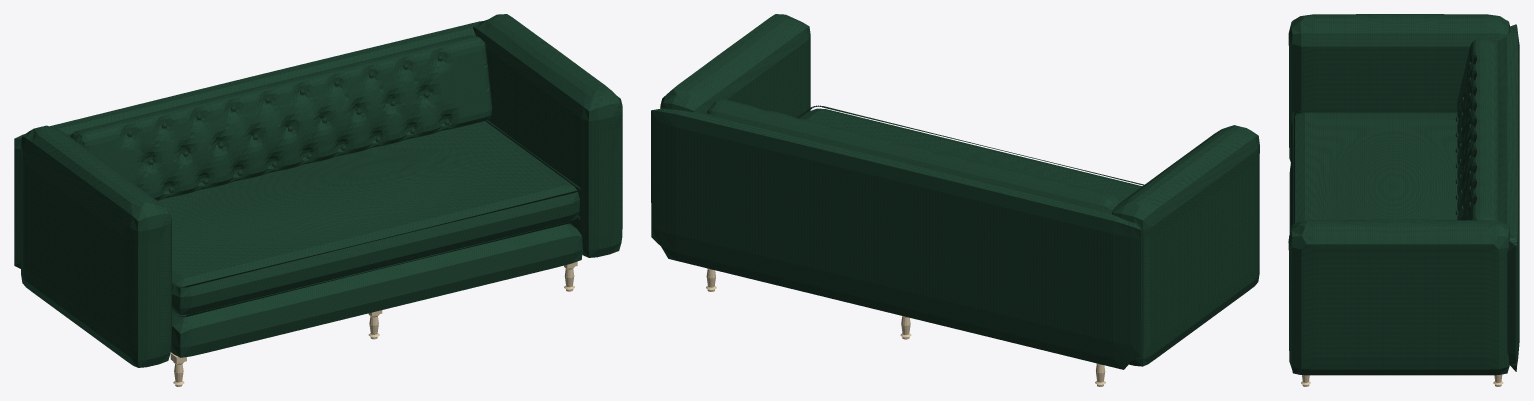
The model's file is BIB-SOF-3-seat.glb.
3 views of the same model, side by side, from view 1: azimuth 30°, elevation 25°; view 2: azimuth 150°, elevation 25°; view 3: azimuth 270°, elevation 25° (orthographic). The views are drawn at different scales.
Parts seen in each view (by area): view 1: seat:fabric:eyJwcmVzZXQiOiJ0YXJ0YW4iLCJ3YXJwIjoiZm9yZXN0Iiwi, inside-back:fabric:eyJwcmVzZXQiOiJ0YXJ0YW4iLCJ3YXJwIjoiZm9yZ, arm-pad-l:fabric:eyJwcmVzZXQiOiJ0YXJ0YW4iLCJ3YXJwIjoiZm9yZXN, arm-pad-r:fabric:eyJwcmVzZXQiOiJ0YXJ0YW4iLCJ3YXJwIjoiZm9yZXN, deck:fabric:eyJwcmVzZXQiOiJ0YXJ0YW4iLCJ3YXJwIjoiZm9yZXN0Iiwi, back-pad:fabric:eyJwcmVzZXQiOiJ0YXJ0YW4iLCJ3YXJwIjoiZm9yZXN0, seat:piping:pbr, inside-back:buttons:pbr; view 2: back-pad:fabric:eyJwcmVzZXQiOiJ0YXJ0YW4iLCJ3YXJwIjoiZm9yZXN0, arm-pad-l:fabric:eyJwcmVzZXQiOiJ0YXJ0YW4iLCJ3YXJwIjoiZm9yZXN, arm-pad-r:fabric:eyJwcmVzZXQiOiJ0YXJ0YW4iLCJ3YXJwIjoiZm9yZXN, inside-back:fabric:eyJwcmVzZXQiOiJ0YXJ0YW4iLCJ3YXJwIjoiZm9yZ, seat:fabric:eyJwcmVzZXQiOiJ0YXJ0YW4iLCJ3YXJwIjoiZm9yZXN0Iiwi, seat:piping:pbr; view 3: arm-pad-r:fabric:eyJwcmVzZXQiOiJ0YXJ0YW4iLCJ3YXJwIjoiZm9yZXN, arm-pad-l:fabric:eyJwcmVzZXQiOiJ0YXJ0YW4iLCJ3YXJwIjoiZm9yZXN, seat:fabric:eyJwcmVzZXQiOiJ0YXJ0YW4iLCJ3YXJwIjoiZm9yZXN0Iiwi, inside-back:fabric:eyJwcmVzZXQiOiJ0YXJ0YW4iLCJ3YXJwIjoiZm9yZ, back-pad:fabric:eyJwcmVzZXQiOiJ0YXJ0YW4iLCJ3YXJwIjoiZm9yZXN0, seat:piping:pbr, inside-back:buttons:pbr.
Part boxes in pixels (x1,y1,x2,y2): seat:fabric:eyJwcmVzZXQiOiJ0YXJ0YW4iLCJ3YXJwIjoiZm9yZXN0Iiwi: (158,121,579,314); inside-back:fabric:eyJwcmVzZXQiOiJ0YXJ0YW4iLCJ3YXJwIjoiZm9yZ: (71,35,492,200); arm-pad-l:fabric:eyJwcmVzZXQiOiJ0YXJ0YW4iLCJ3YXJwIjoiZm9yZXN: (20,125,171,367); arm-pad-r:fabric:eyJwcmVzZXQiOiJ0YXJ0YW4iLCJ3YXJwIjoiZm9yZXN: (473,14,622,257); deck:fabric:eyJwcmVzZXQiOiJ0YXJ0YW4iLCJ3YXJwIjoiZm9yZXN0Iiwi: (171,222,582,357); back-pad:fabric:eyJwcmVzZXQiOiJ0YXJ0YW4iLCJ3YXJwIjoiZm9yZXN0: (14,21,482,268); seat:piping:pbr: (172,120,580,317); inside-back:buttons:pbr: (127,55,449,192); back-pad:fabric:eyJwcmVzZXQiOiJ0YXJ0YW4iLCJ3YXJwIjoiZm9yZXN0: (651,108,1141,369); arm-pad-l:fabric:eyJwcmVzZXQiOiJ0YXJ0YW4iLCJ3YXJwIjoiZm9yZXN: (1112,125,1259,366); arm-pad-r:fabric:eyJwcmVzZXQiOiJ0YXJ0YW4iLCJ3YXJwIjoiZm9yZXN: (660,14,810,118); inside-back:fabric:eyJwcmVzZXQiOiJ0YXJ0YW4iLCJ3YXJwIjoiZm9yZ: (707,99,1120,211); seat:fabric:eyJwcmVzZXQiOiJ0YXJ0YW4iLCJ3YXJwIjoiZm9yZXN0Iiwi: (800,108,1142,202); seat:piping:pbr: (797,105,1144,185); arm-pad-r:fabric:eyJwcmVzZXQiOiJ0YXJ0YW4iLCJ3YXJwIjoiZm9yZXN: (1288,219,1510,375); arm-pad-l:fabric:eyJwcmVzZXQiOiJ0YXJ0YW4iLCJ3YXJwIjoiZm9yZXN: (1288,14,1510,162); seat:fabric:eyJwcmVzZXQiOiJ0YXJ0YW4iLCJ3YXJwIjoiZm9yZXN0Iiwi: (1291,112,1458,227); inside-back:fabric:eyJwcmVzZXQiOiJ0YXJ0YW4iLCJ3YXJwIjoiZm9yZ: (1457,38,1497,220); back-pad:fabric:eyJwcmVzZXQiOiJ0YXJ0YW4iLCJ3YXJwIjoiZm9yZXN0: (1497,24,1519,371); seat:piping:pbr: (1292,110,1457,223); inside-back:buttons:pbr: (1455,62,1470,214).
Size of the model in its own units: 2.1 by 0.78 by 0.92.
Materials: 14 (6 with a texture image).
